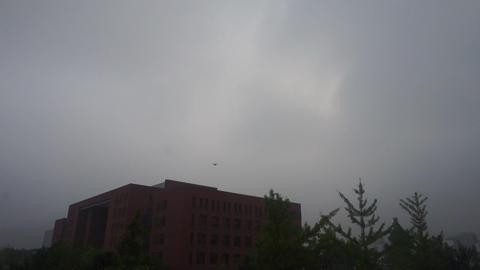UAV: (212, 164, 218, 166)
